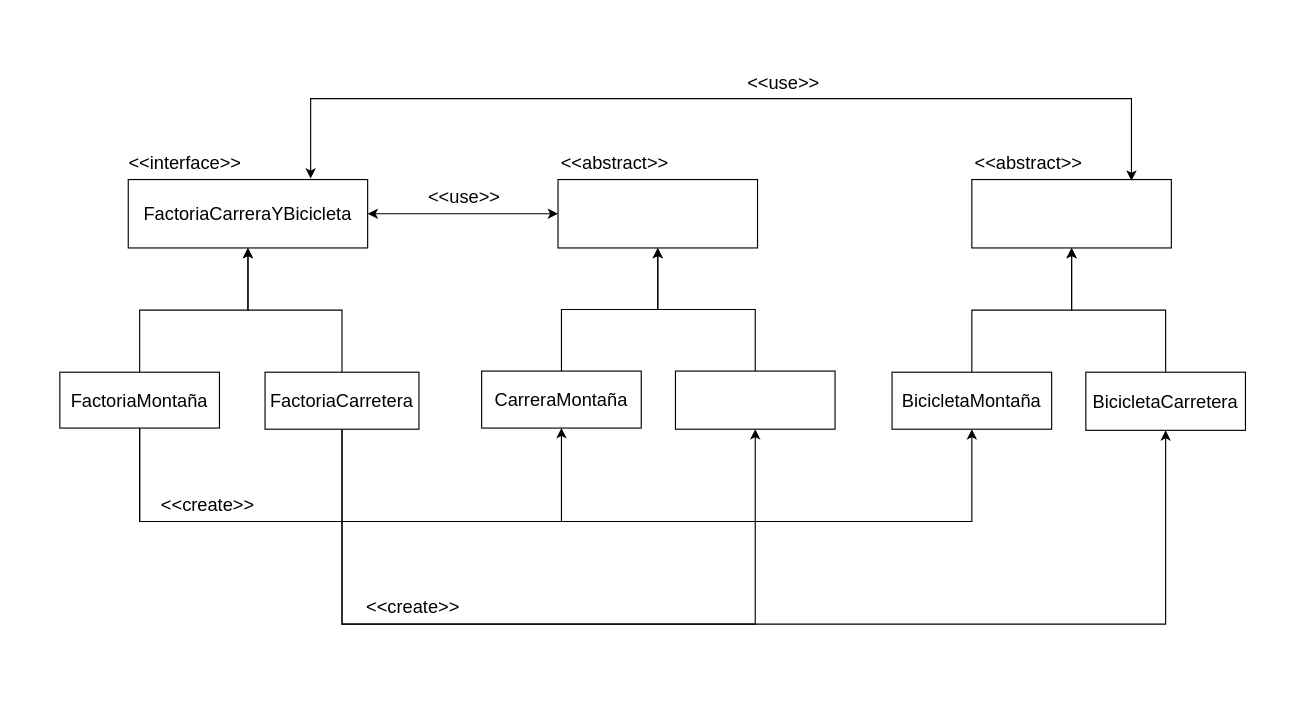
The diagram is 1305 pixels wide and 713 high, and some of its shapes have lost their labels. The shapes that lost their labels are listed below. From the top down, each one's centre as x and y in pixels, then its label:
At point 657,213: "Carrera".
At point 1071,213: "Bicicleta".
At point 754,399: "CarreraCarretera".
